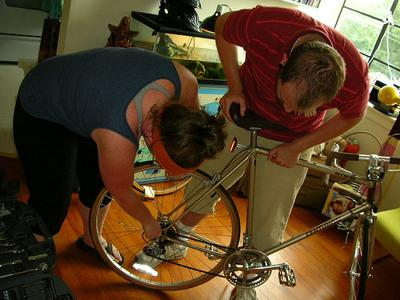person: (1, 45, 226, 266)
